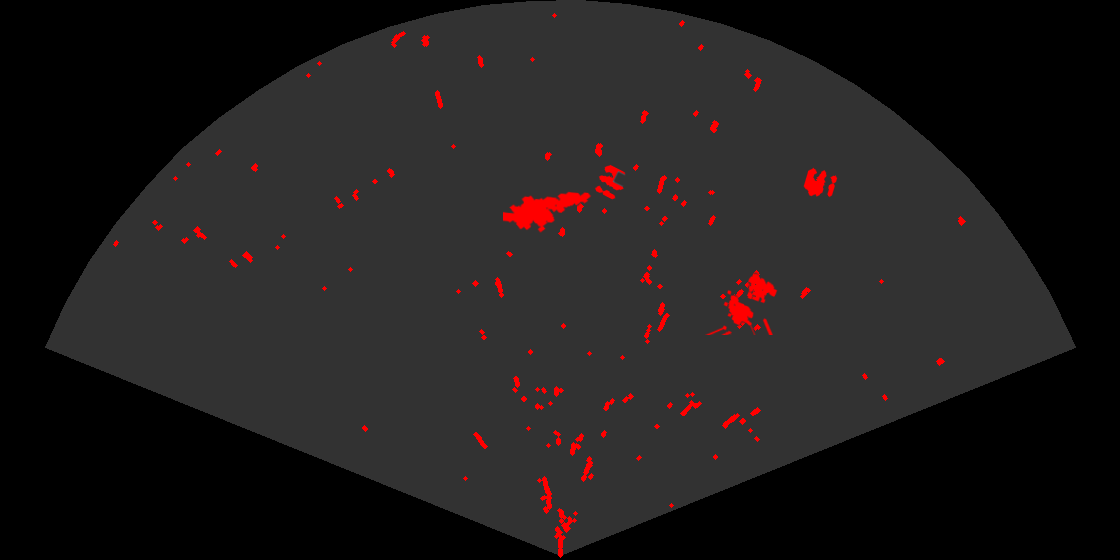ball: (593, 163, 627, 201), (802, 166, 839, 199)
cage: (705, 272, 779, 335)
frogman: (503, 190, 592, 234)
